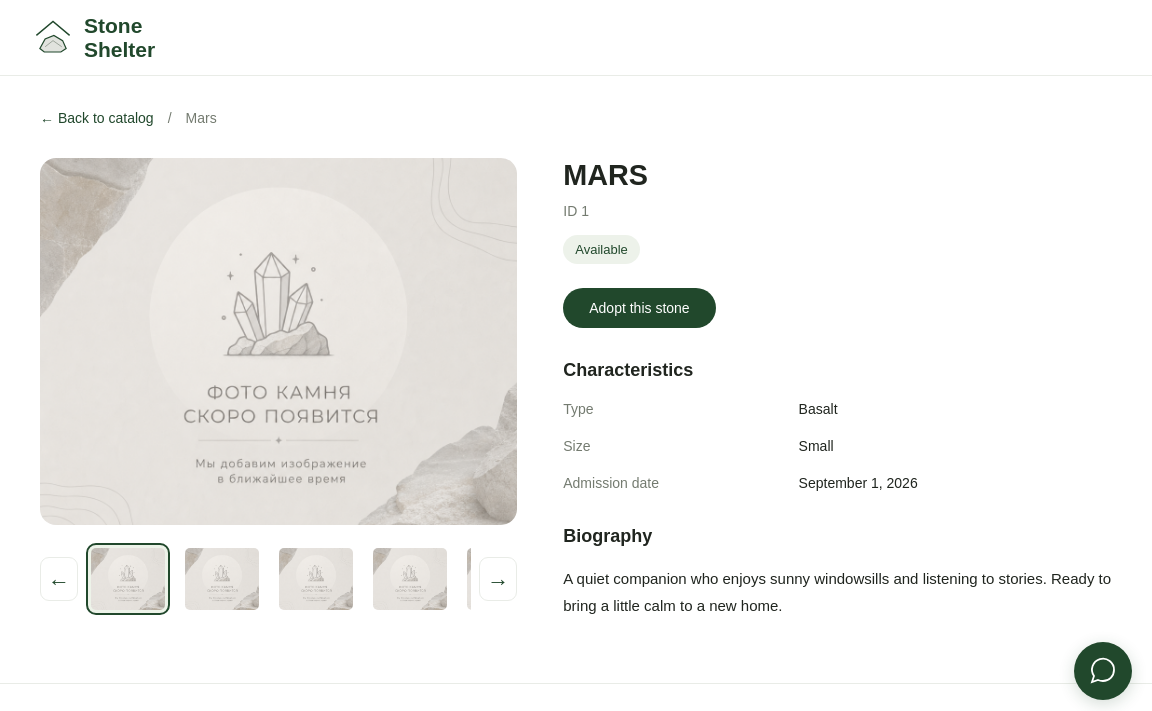
it: direct visits look up stones beyond the visible catalog and return to defaults
Expected: the heading "Mars" is shown, left=563, top=159, right=648, bottom=191
Expected: the text "ID 1" is shown, left=563, top=202, right=589, bottom=218
Click the link "← Back to catalog". click: {"x": 97, "y": 118}
box: left=40, top=106, right=154, bottom=130
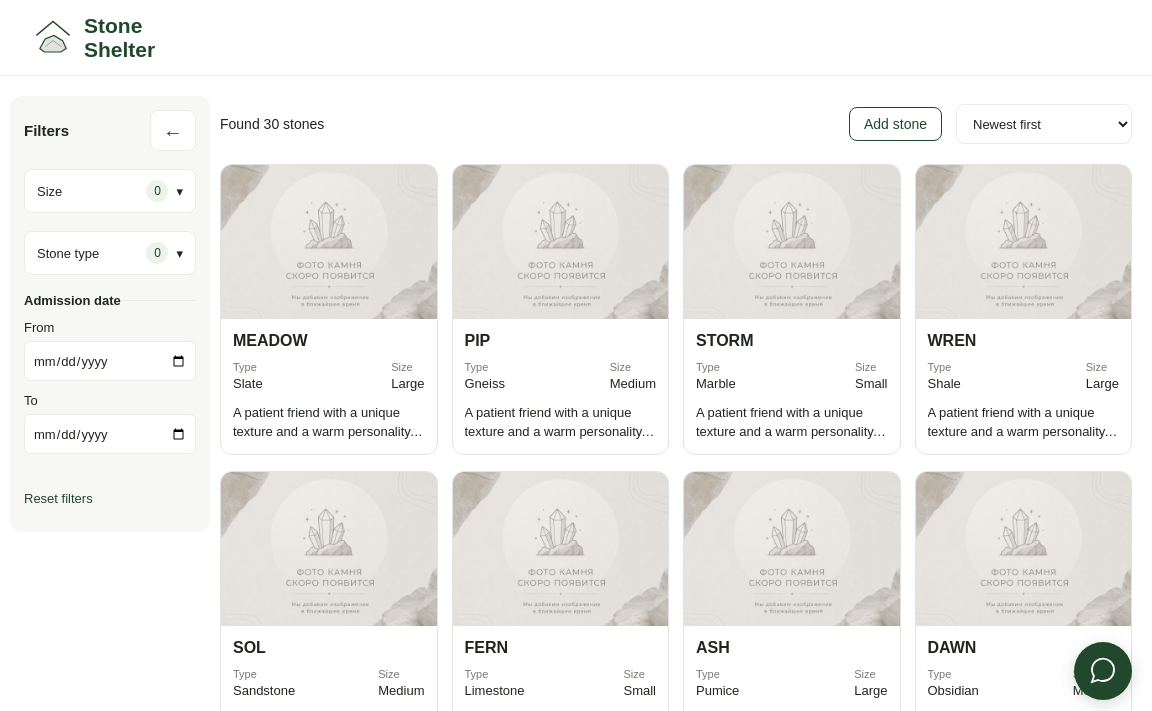
Result: the dropdown named "Sort stones" shows "Newest first" at left=956, top=104, right=1132, bottom=144
